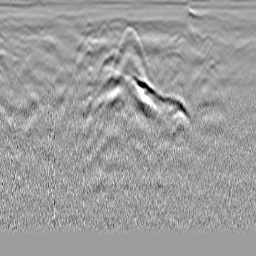cavity: (116, 24, 141, 52)
